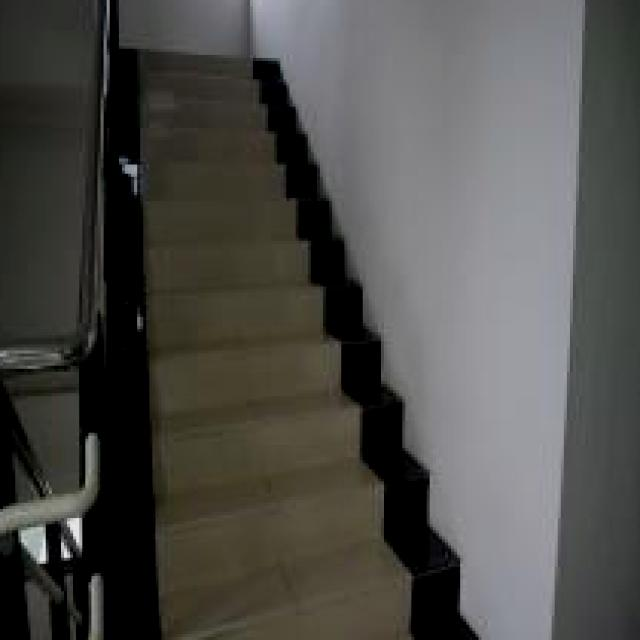upstair: (111, 96, 294, 486)
